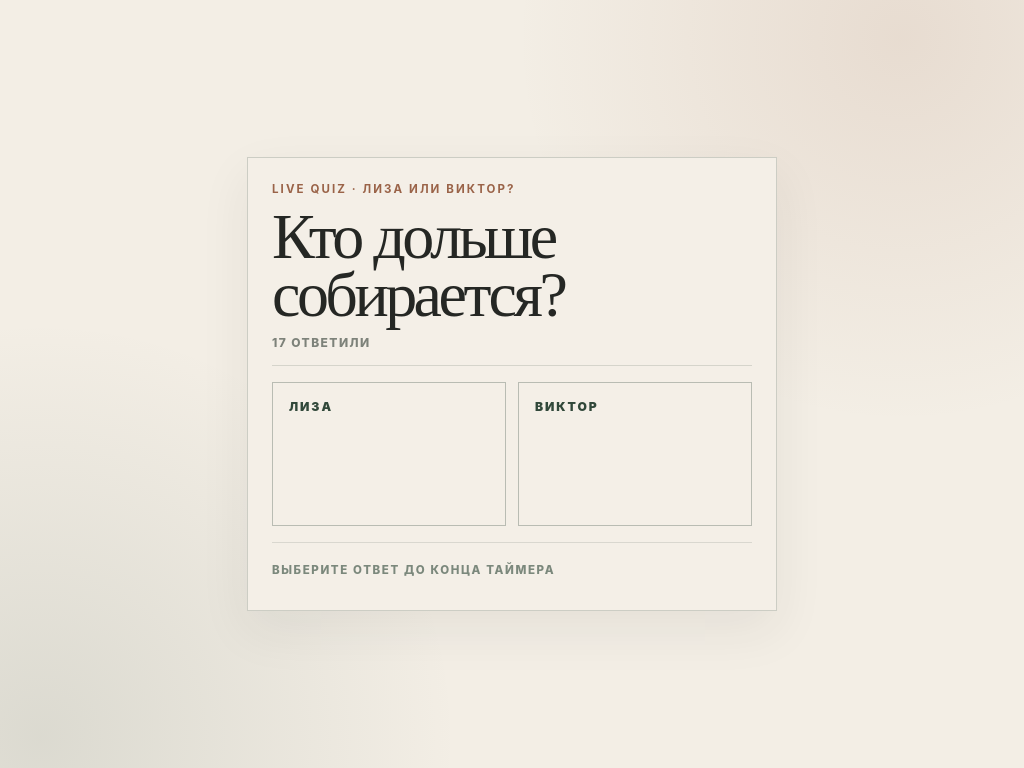
Scenario: GuestQuizPage › shows the current question, submits one answer, then locks both choices without exposing results
Check: the heading "Кто дольше собирается?" is shown, box [272,201,564,330]
Check: the button "ЛИЗА" is enabled, box [272,382,506,526]
Click the button "ВИКТОР": (635, 454) [518,382,752,526]
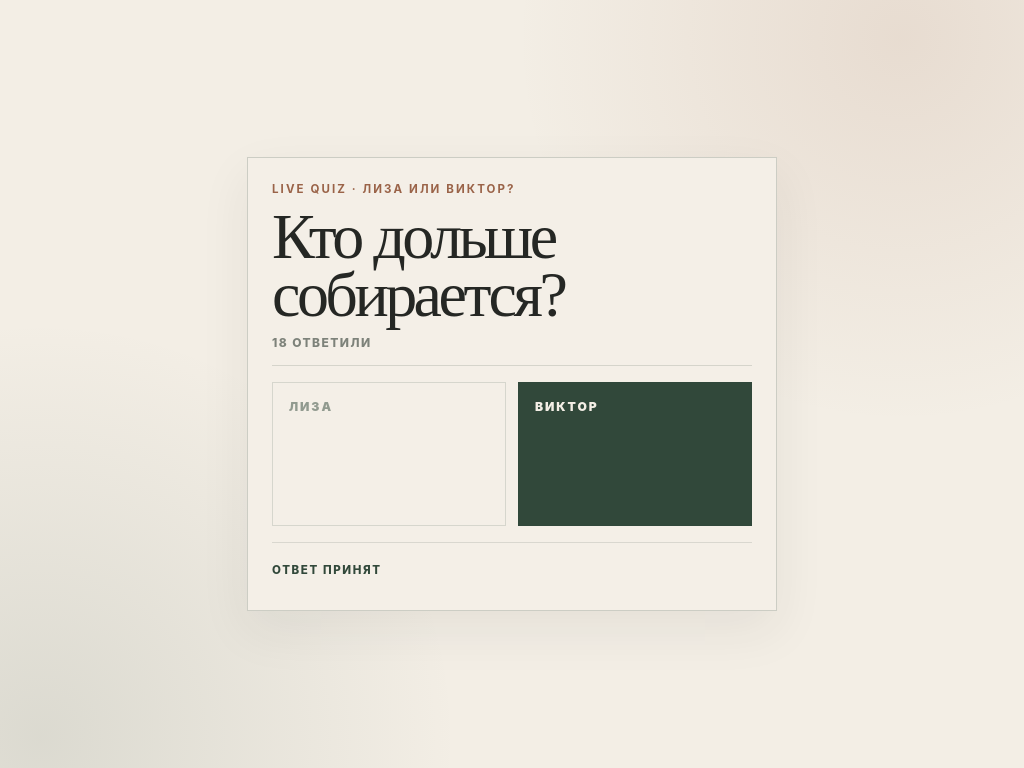
Check: the text "ОТВЕТ ПРИНЯТ" is shown, box [272,542,752,586]
Check: the button "ЛИЗА" is disabled, box [272,382,506,526]
Check: the button "ВИКТОР" is disabled, box [518,382,752,526]
